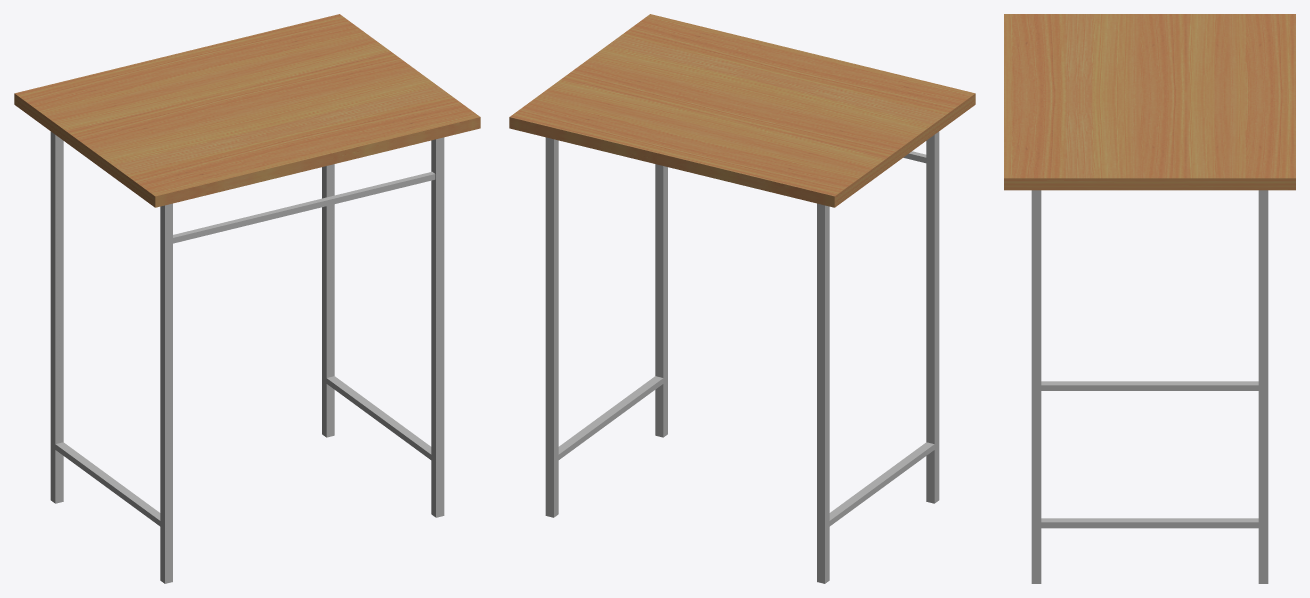
File: SchoolDesk.gltf
The picture shows the model from 3 angles, left to right: view 1: azimuth 30°, elevation 25°; view 2: azimuth 150°, elevation 25°; view 3: azimuth 270°, elevation 25°; orthographic projection. The views are drawn at different scales.
Visible parts, largest first — view 1: desk_top, desk_leg2, desk_leg3, desk_leg4, desk_leg1, desk_bar_top_1to3, desk_bar_bottom_3to4, desk_bar_bottom_1to2; view 2: desk_top, desk_leg1, desk_leg4, desk_leg3, desk_leg2, desk_bar_bottom_1to2, desk_bar_bottom_3to4; view 3: desk_top, desk_leg2, desk_leg1, desk_bar_bottom_1to2, desk_bar_bottom_3to4.
Boxes of the visible parts, x1,y1,x2,y2 form: desk_top: [14, 14, 480, 207]; desk_leg2: [431, 137, 444, 517]; desk_leg3: [50, 131, 63, 503]; desk_leg4: [160, 203, 172, 583]; desk_leg1: [322, 164, 334, 437]; desk_bar_top_1to3: [173, 172, 435, 243]; desk_bar_bottom_3to4: [53, 442, 162, 527]; desk_bar_bottom_1to2: [324, 376, 431, 459]; desk_top: [509, 14, 975, 207]; desk_leg1: [545, 137, 558, 517]; desk_leg4: [926, 131, 939, 503]; desk_leg3: [817, 203, 829, 583]; desk_leg2: [655, 164, 667, 437]; desk_bar_bottom_1to2: [556, 376, 663, 461]; desk_bar_bottom_3to4: [829, 442, 934, 526]; desk_top: [1004, 14, 1295, 190]; desk_leg2: [1031, 190, 1041, 583]; desk_leg1: [1258, 190, 1268, 583]; desk_bar_bottom_1to2: [1037, 518, 1263, 528]; desk_bar_bottom_3to4: [1041, 381, 1258, 390].
Size of the model in its own units: 12 by 14.2 by 9.
Materials: 2 (1 with a texture image).
